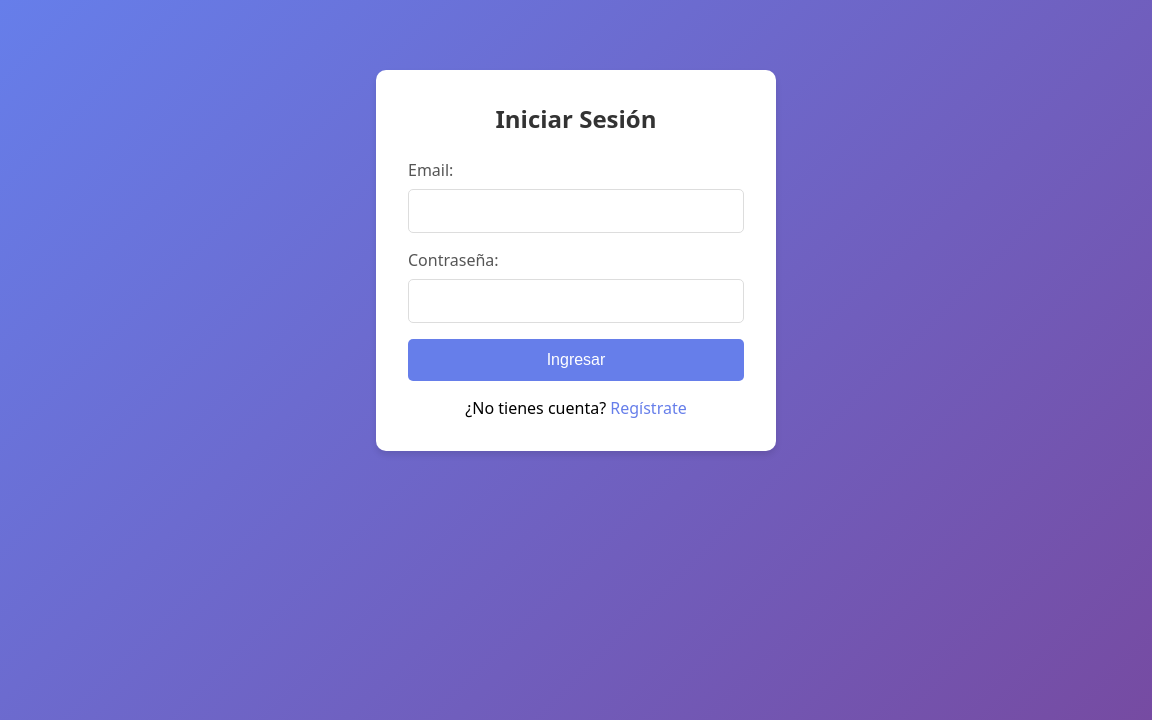
Test: LoginView.vue › muestra mensaje de error cuando credenciales son incorrectas
Type "test@test.com" into the field at {"x": 576, "y": 210}, box [408, 188, 744, 232]
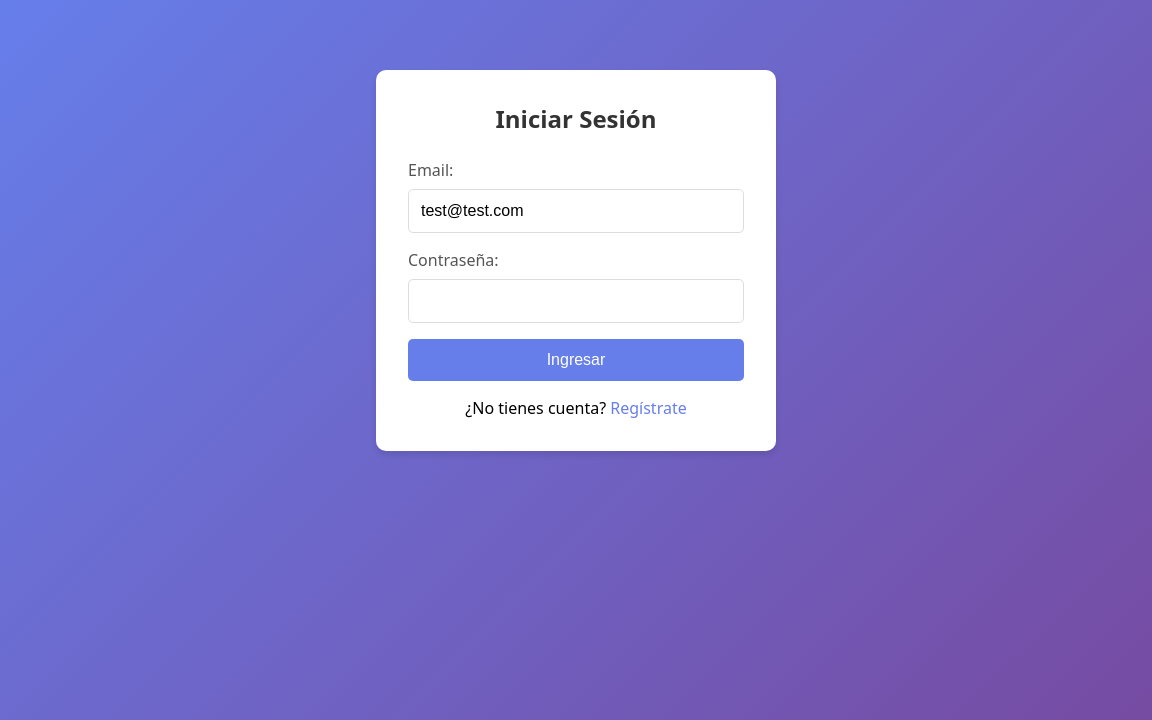
Type "wrong" into the password field at {"x": 576, "y": 300}, box [408, 278, 744, 322]
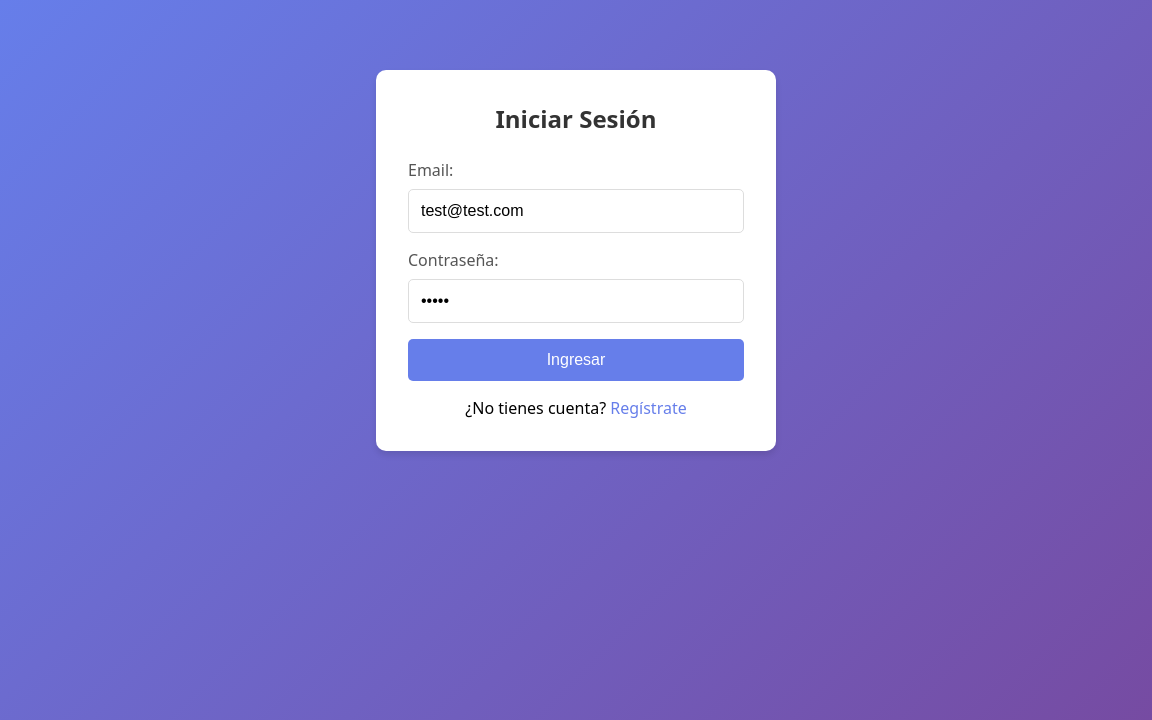
Submit the form, box [408, 158, 744, 418]
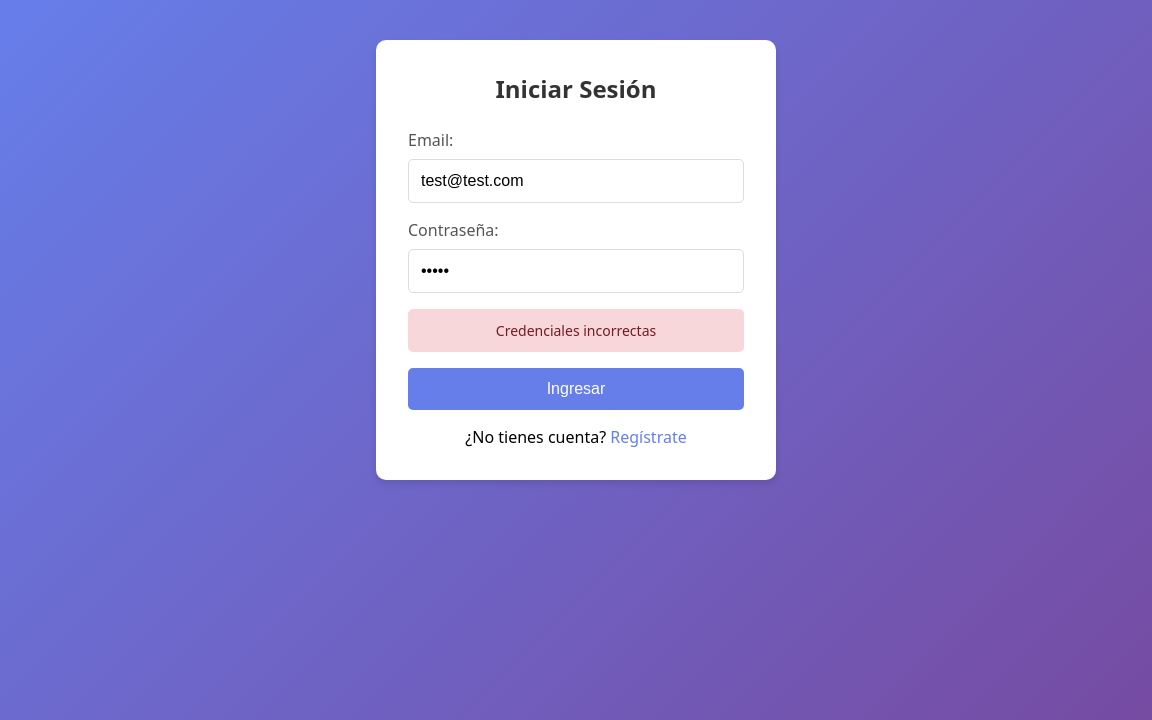
Result: the text "Credenciales incorrectas" is shown at [408, 309, 744, 352]
